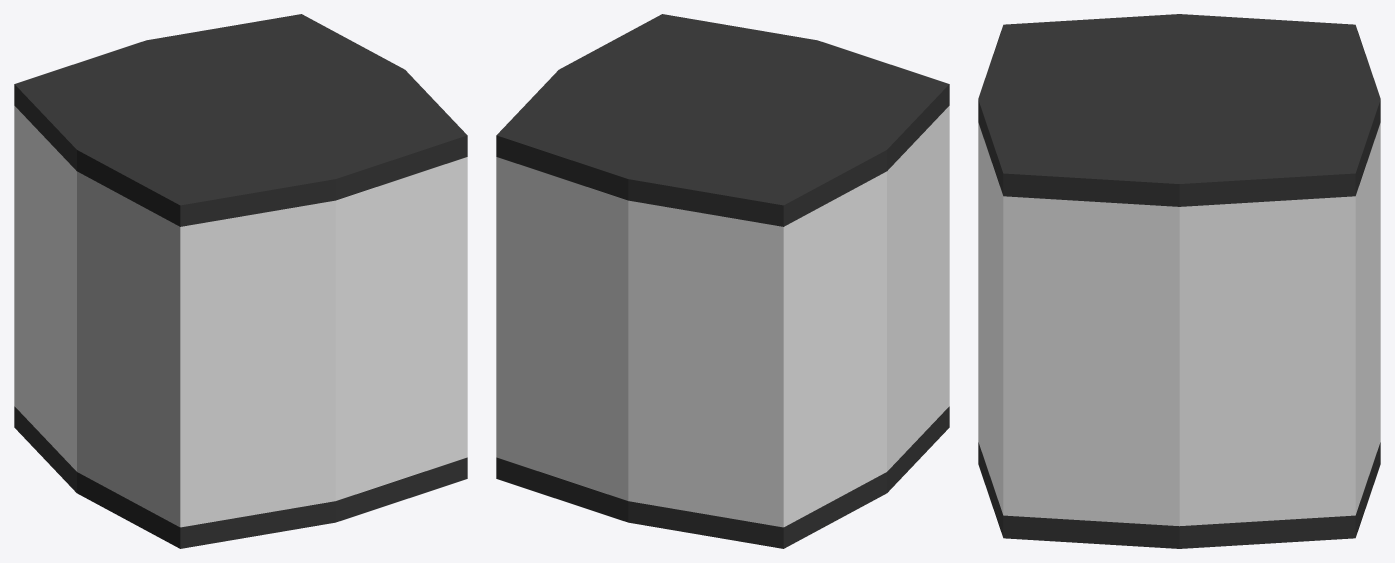
The model's file is timer.obj.
The picture shows the model from 3 angles, left to right: view 1: azimuth 30°, elevation 25°; view 2: azimuth 150°, elevation 25°; view 3: azimuth 270°, elevation 25°; orthographic projection. The views are drawn at different scales.
Visible parts, largest first — view 1: oupWindow, cuboid; view 2: oupWindow, cuboid; view 3: oupWindow, cuboid.
Boxes of the visible parts, left/top/right/bottom form: oupWindow: left=14, top=106, right=467, bottom=527; cuboid: left=14, top=14, right=467, bottom=548; oupWindow: left=496, top=106, right=949, bottom=527; cuboid: left=496, top=14, right=949, bottom=548; oupWindow: left=978, top=123, right=1380, bottom=526; cuboid: left=978, top=14, right=1380, bottom=548.
Size of the model in its own units: 1 by 1 by 1.
